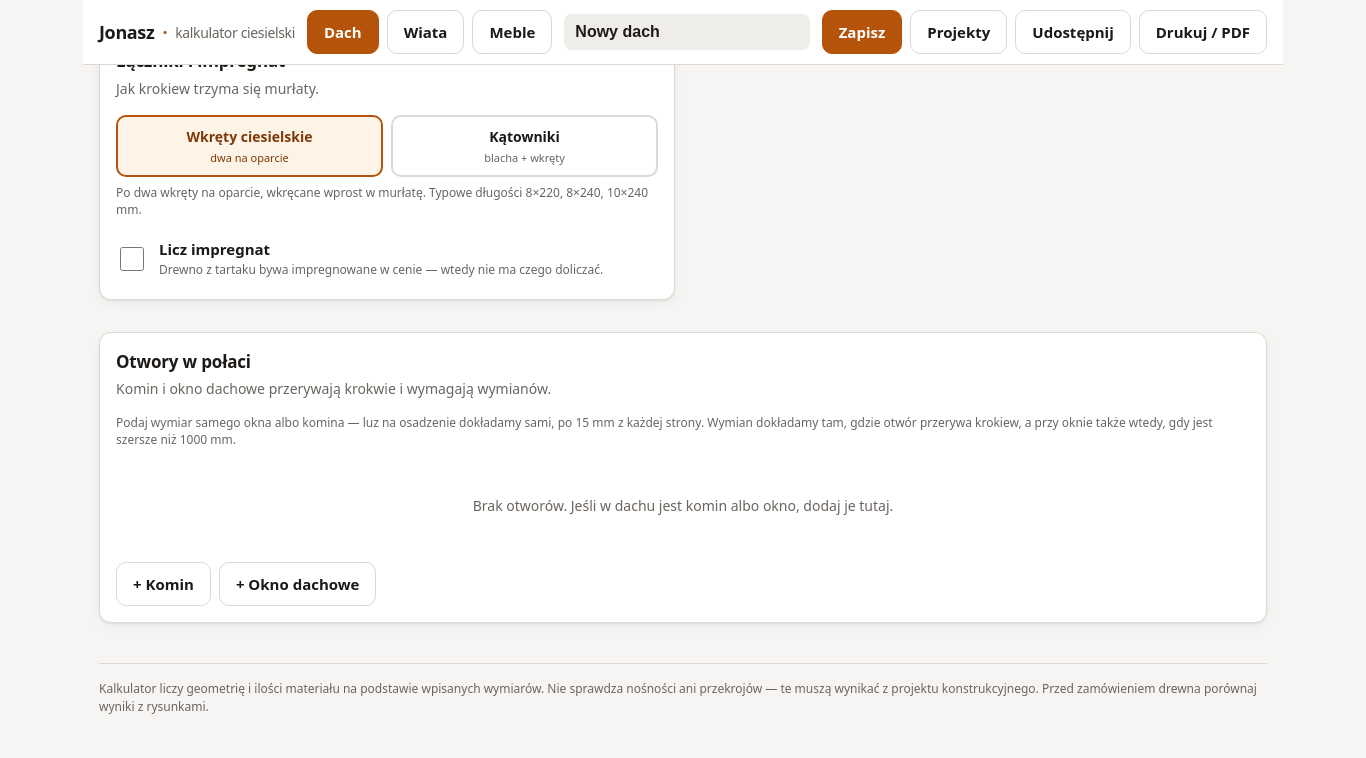
Test: aplikacja jako całość › dodany komin trafia do zestawienia jako wymian
(page scrolled)
Click the button "+ Komin": (163, 584) [116,562,211,606]
(page scrolled)
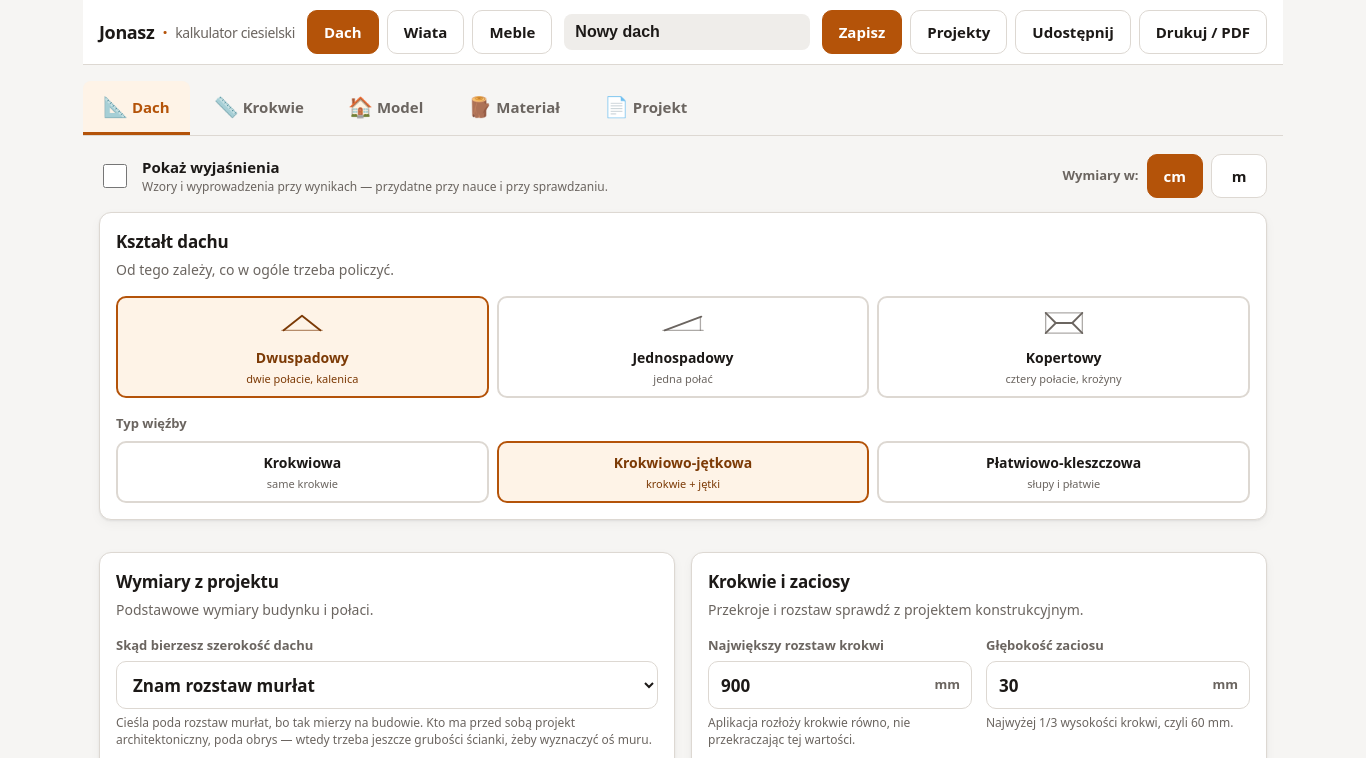
Click the tab "🪵 Materiał": (514, 108) [447,81,580,135]
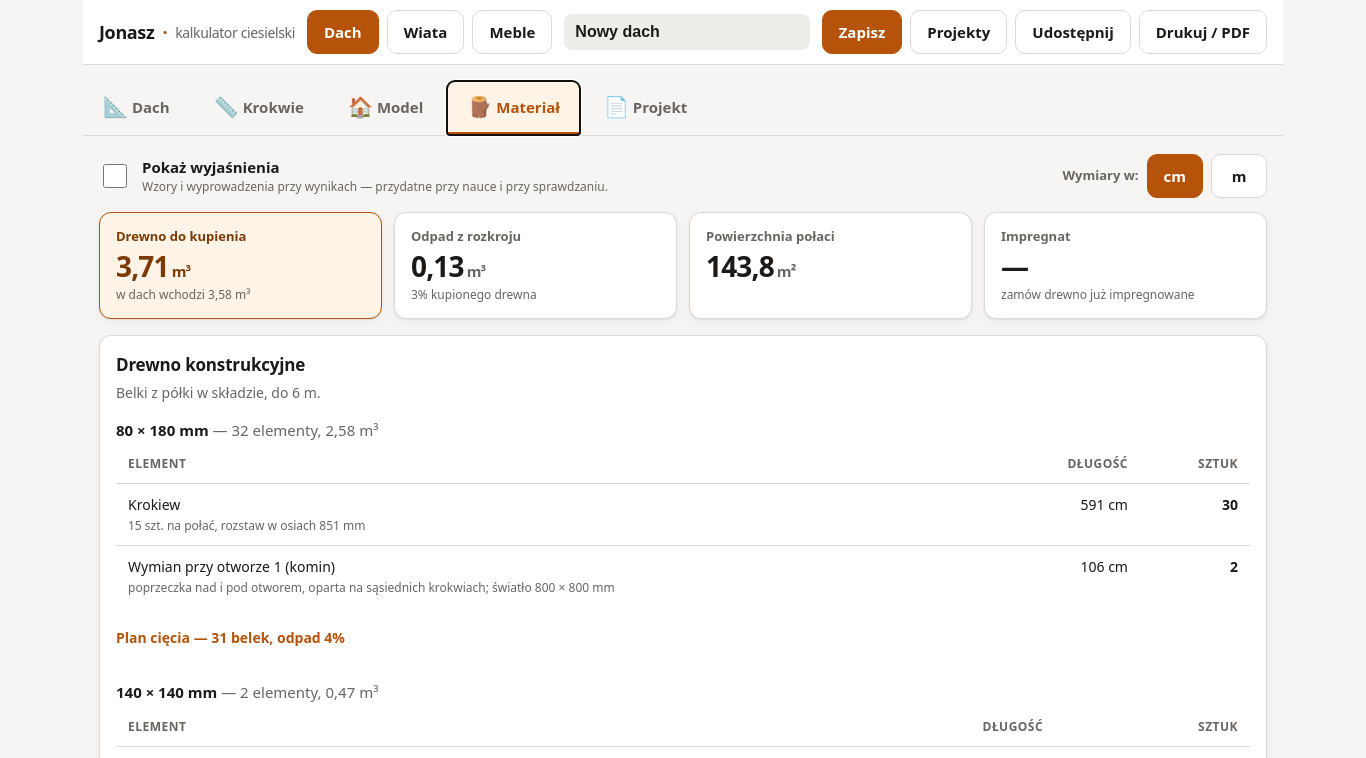
Check: the text "Wymian przy otworze" is shown, box [128,557,335,576]
